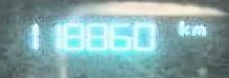0: (130, 21, 155, 51)
1: (28, 21, 42, 51), (54, 22, 60, 51)
6: (109, 21, 129, 51)
8: (83, 21, 107, 52), (62, 20, 83, 49)
X: (177, 19, 188, 34), (190, 23, 205, 34)
